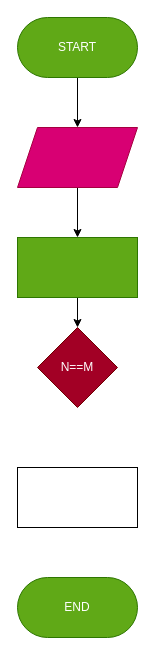
Some shapes in this 155 by 655 pixel diagram are drawn without their labels. The centre of each missing label's shape, as x and y in pixels:
"INPUT N" goes at [77,157].
"N là số ngẫu nhiên trong khoảng 0-9" goes at [77,267].
